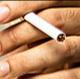Cigarette: (23, 12, 66, 43)
